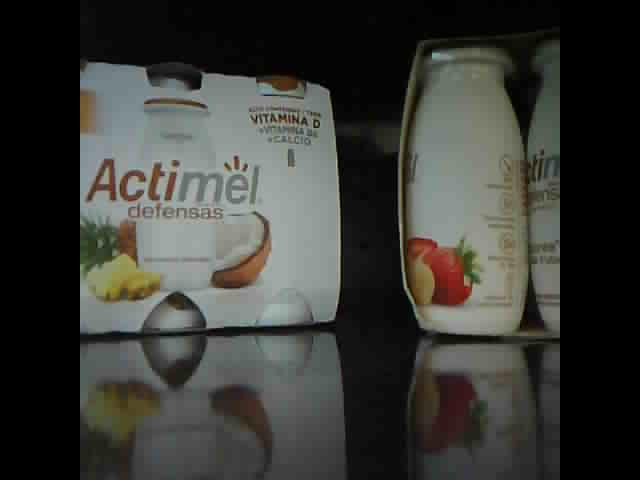actimel: (80, 51, 343, 339), (398, 25, 560, 343)
